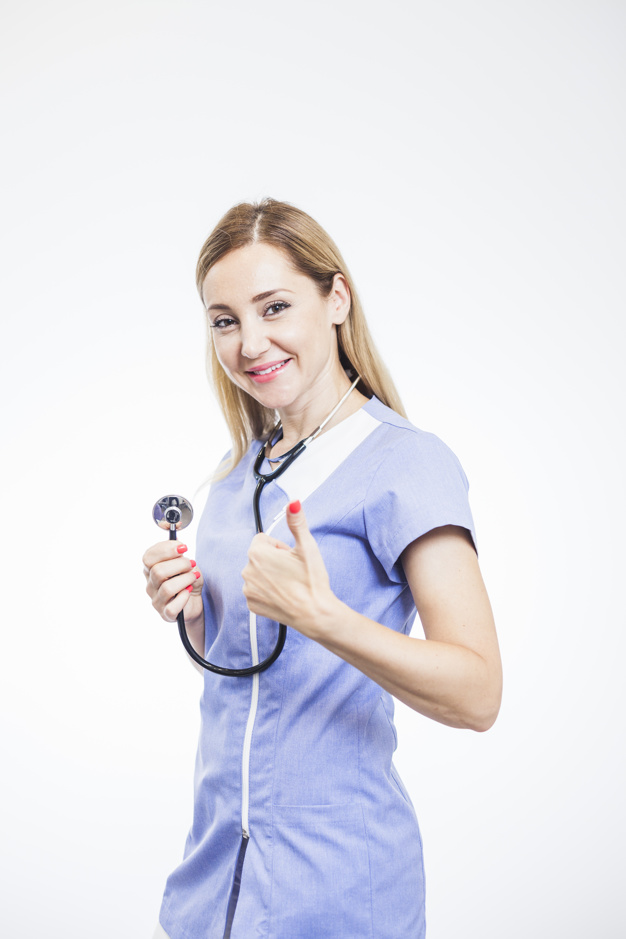thumbsup: (242, 499, 307, 622)
